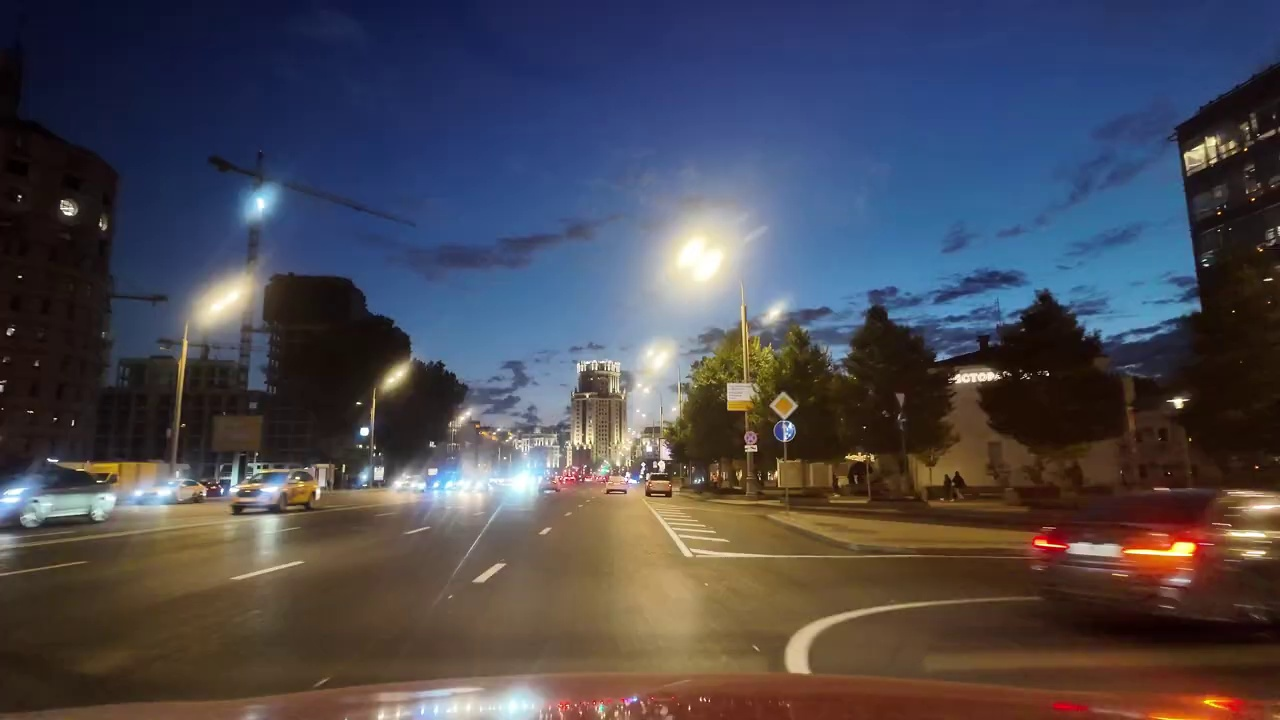acesa: (668, 225, 729, 291), (194, 276, 255, 328), (244, 185, 278, 225), (642, 343, 675, 381)
